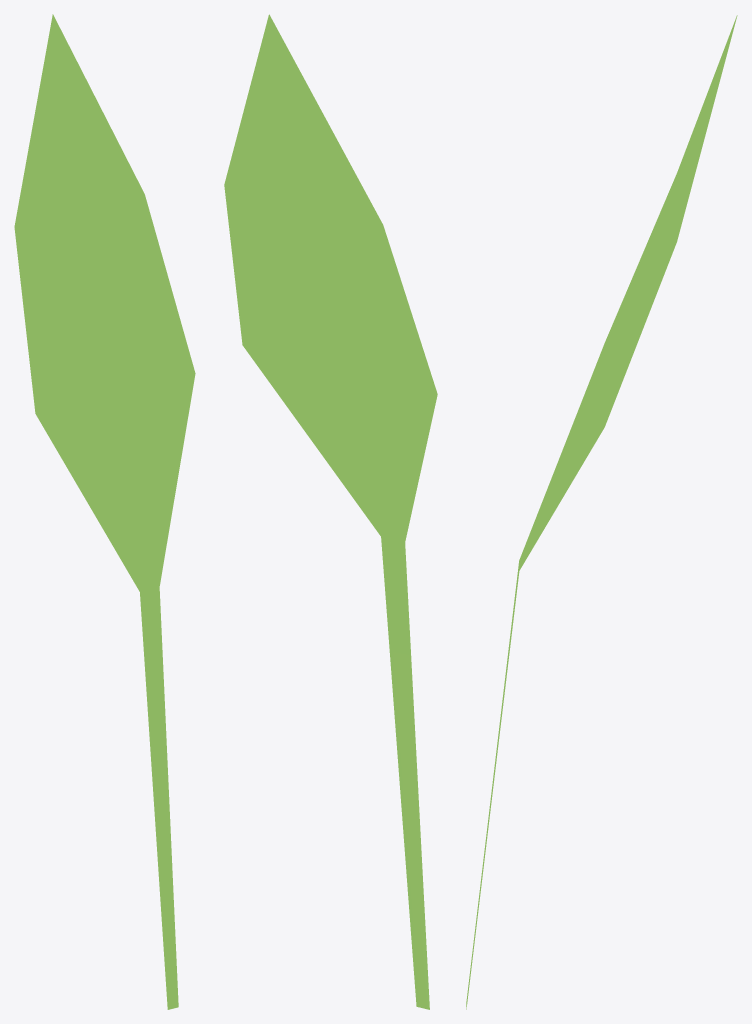
Rendered from Plant_g_TwoS_01.fbx.
The picture shows the model from 3 angles, left to right: view 1: azimuth 30°, elevation 25°; view 2: azimuth 150°, elevation 25°; view 3: azimuth 270°, elevation 25°; orthographic projection. The views are drawn at different scales.
Visible parts, largest first — view 1: Plant_g_TwoS_01; view 2: Plant_g_TwoS_01; view 3: Plant_g_TwoS_01.
Boxes of the visible parts, x1,y1,x2,y2 form: Plant_g_TwoS_01: (14, 14, 195, 1009); Plant_g_TwoS_01: (224, 14, 437, 1009); Plant_g_TwoS_01: (466, 15, 737, 1009).
Bounding box in the file's own units: 0.1281 × 0.6917 × 0.1712.
